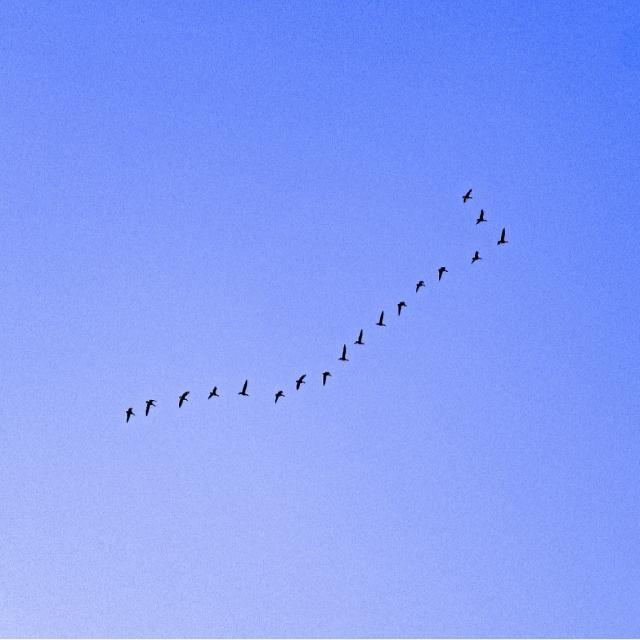bird: (492, 224, 517, 249), (464, 245, 486, 270), (372, 304, 388, 332), (456, 184, 474, 207), (173, 386, 190, 409), (234, 376, 250, 400), (474, 205, 490, 228), (408, 274, 428, 292), (334, 343, 350, 365), (292, 370, 308, 392), (353, 328, 369, 349), (272, 383, 286, 407), (144, 394, 158, 418), (206, 381, 220, 404), (125, 403, 139, 426), (318, 366, 332, 386), (435, 262, 450, 280), (394, 300, 408, 318)
